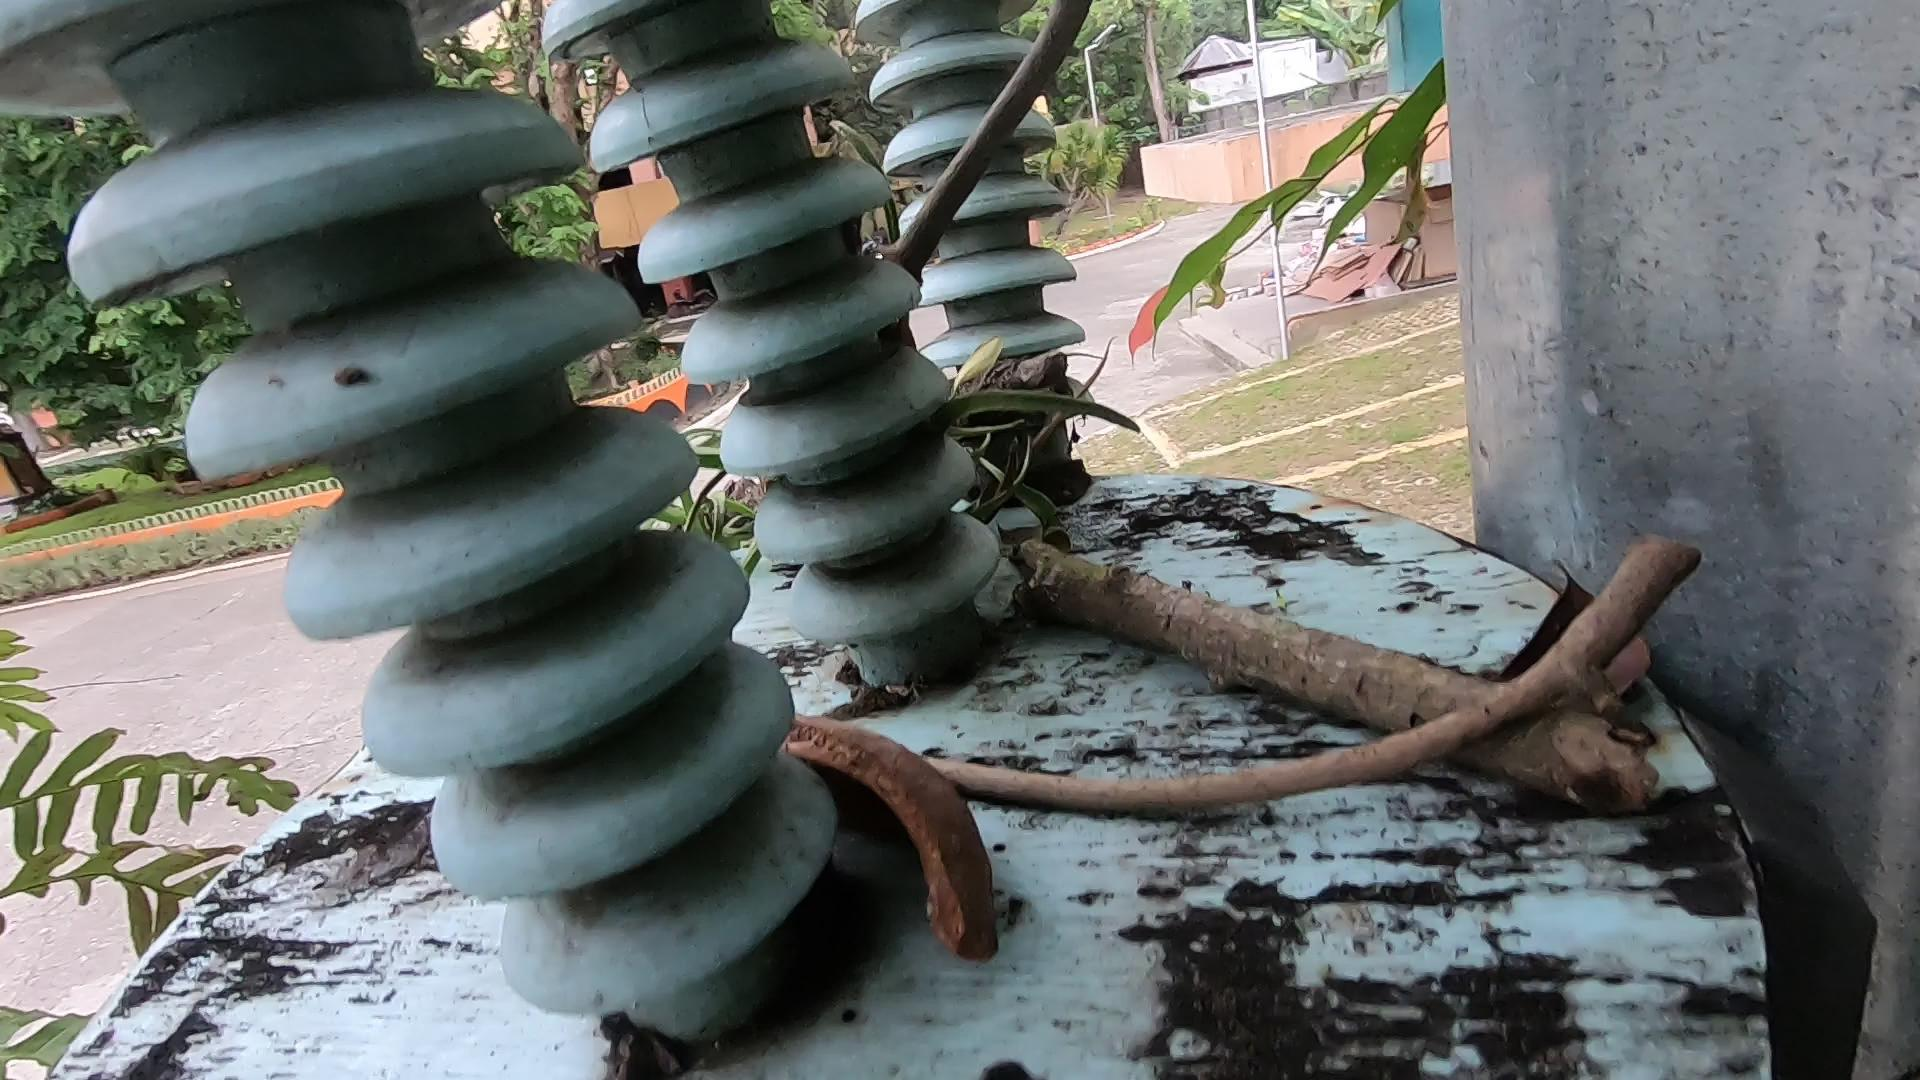branch with leaves: (796, 276, 1601, 837)
leaf: (1484, 563, 1710, 822)
mahogany fruit: (806, 696, 1054, 1062)
tree branch: (835, 624, 1710, 926), (795, 1, 1098, 336)
